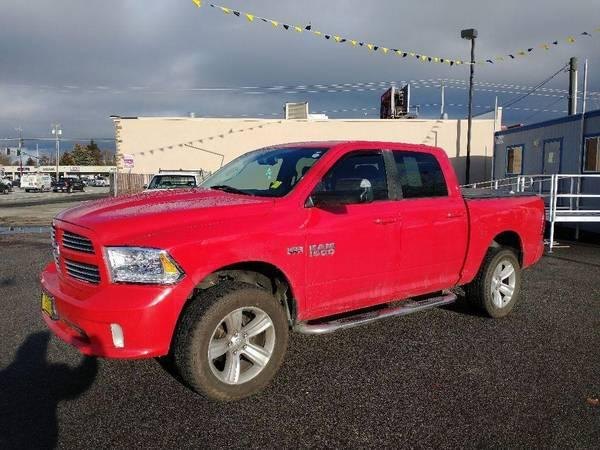Front_Bumper: (40, 264, 196, 360)
Front_Fender: (99, 196, 307, 324)
Front_Left_Door: (304, 201, 400, 317)
Front_Left_Window: (303, 148, 395, 206)
Front_Windshield: (190, 150, 325, 203)
Grille: (48, 218, 111, 289)
Hood: (50, 186, 267, 244)
Left_Headlight: (103, 245, 184, 286)
Rear_Fender: (457, 193, 545, 284)
Rear_Left_Door: (397, 197, 469, 296)
Rear_Left_Window: (388, 148, 449, 197)
Roof: (256, 141, 460, 204)
Wheel: (177, 280, 296, 404), (465, 244, 522, 319)
